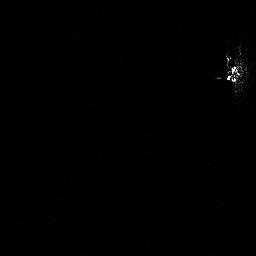ship: (215, 45, 250, 97)
